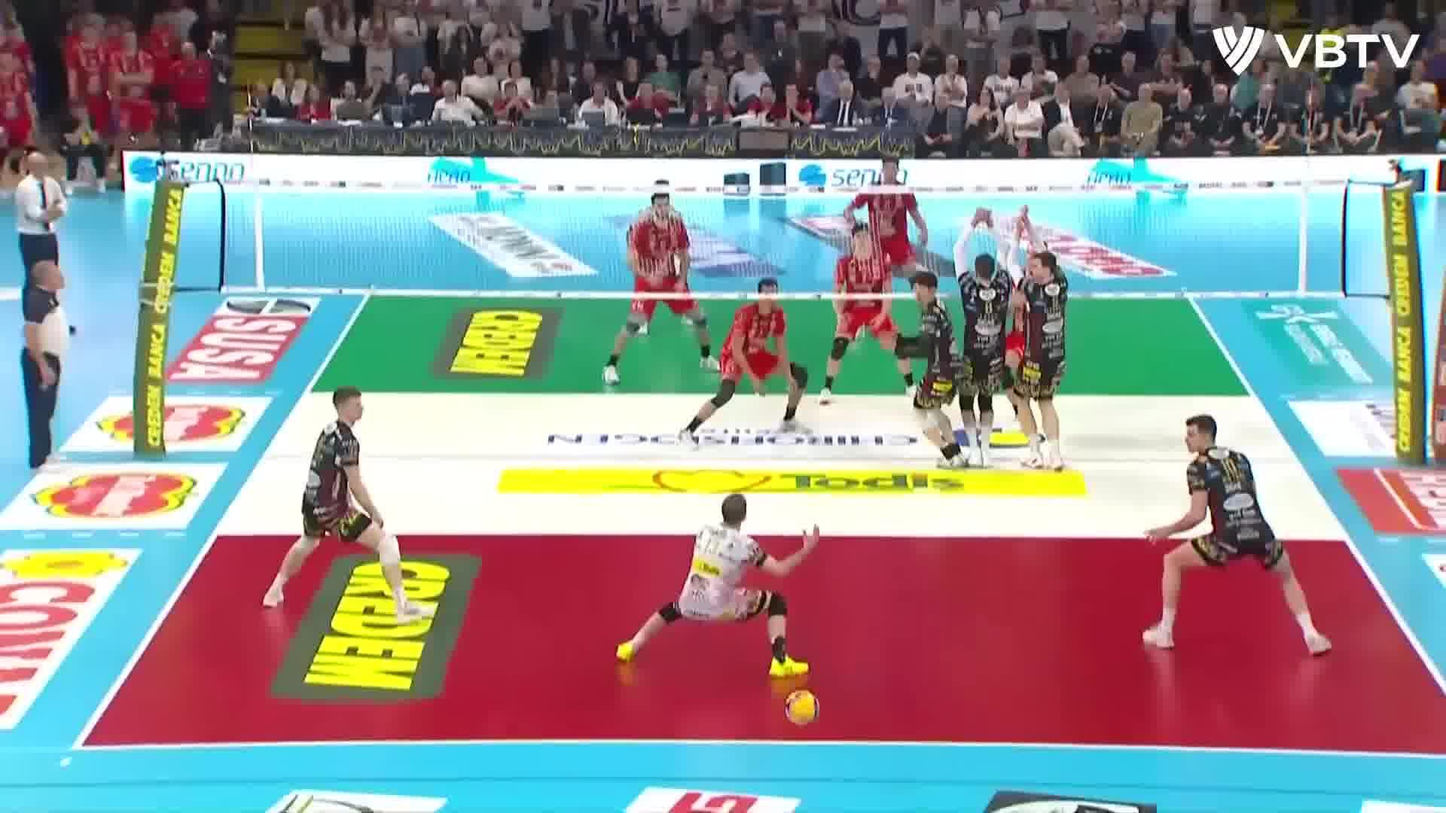balls: (778, 682, 828, 732)
